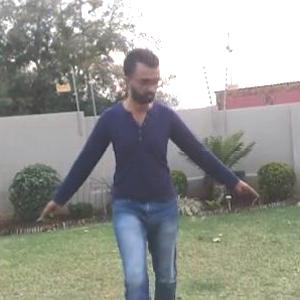land: (30, 62, 248, 299)
